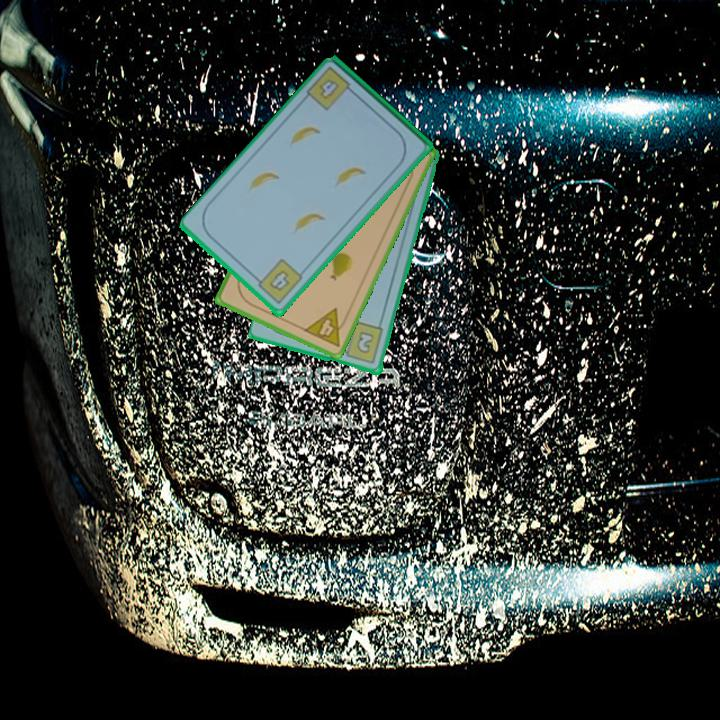2b: (337, 319, 386, 367)
4b: (303, 63, 359, 114), (251, 256, 305, 308)
4p: (300, 305, 352, 350)
